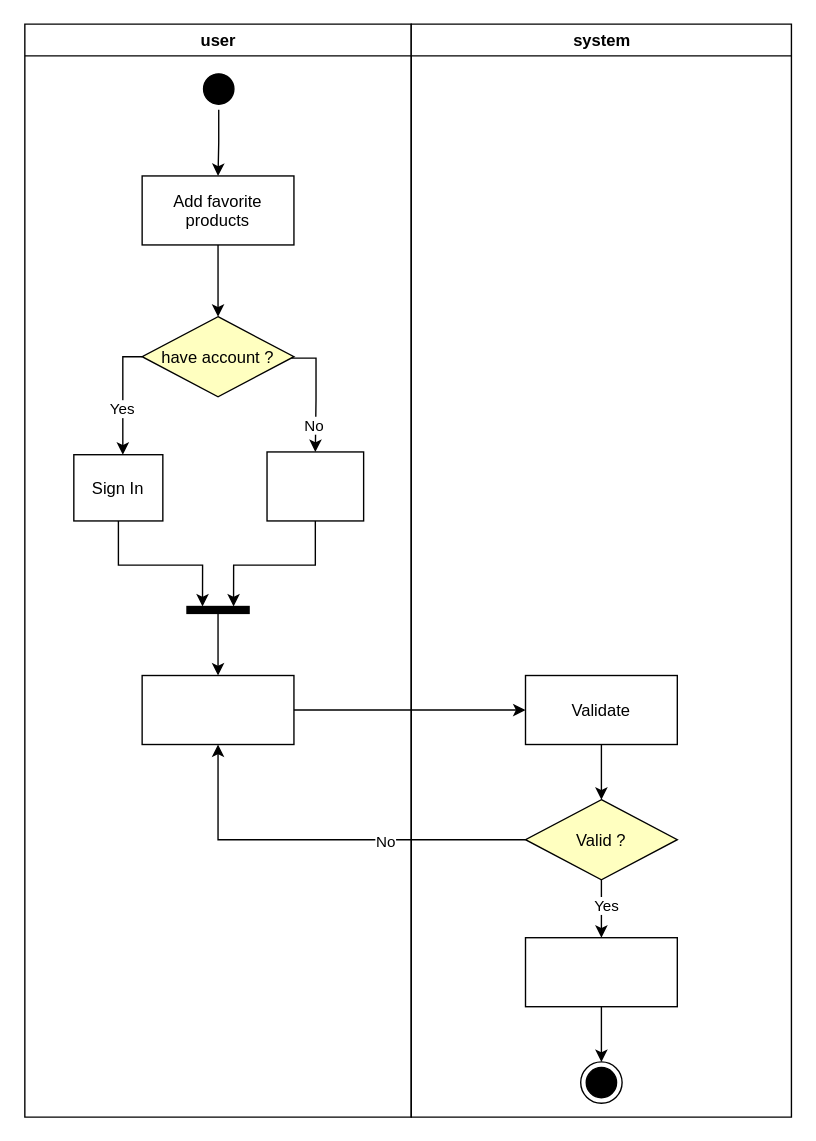
Image size: 816x1141. Some labels were removed from this diagram. The centre of each missing label's shape, as x and y in pixels:
"Data Entity" belongs at point (217, 709).
"Save Data" belongs at point (600, 971).
"Sign Up" belongs at point (315, 486).
